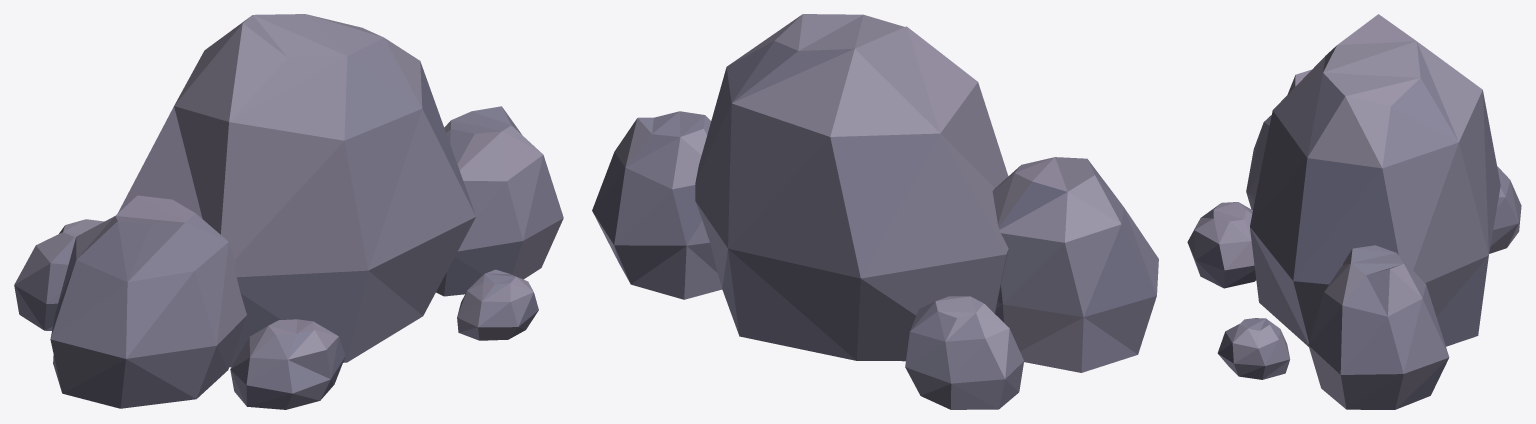
The model's file is BeachRocks.glb.
3 renders of one model, left to right at view 1: azimuth 30°, elevation 25°; view 2: azimuth 150°, elevation 25°; view 3: azimuth 270°, elevation 25°, orthographic. The views are drawn at different scales.
Visible parts, largest first — view 1: BeachRocks_Stone, BeachRocks_StoneWarm, BeachRocks_StoneLight, BeachRocks_StoneShade; view 2: BeachRocks_Stone, BeachRocks_StoneLight, BeachRocks_StoneWarm, BeachRocks_StoneShade; view 3: BeachRocks_Stone, BeachRocks_StoneLight, BeachRocks_StoneShade, BeachRocks_StoneWarm.
Boxes of the visible parts, x1,y1,x2,y2 form: BeachRocks_Stone: [14, 38, 563, 409]; BeachRocks_StoneWarm: [50, 56, 563, 393]; BeachRocks_StoneLight: [14, 14, 543, 359]; BeachRocks_StoneShade: [44, 61, 538, 406]; BeachRocks_Stone: [592, 41, 1158, 409]; BeachRocks_StoneLight: [614, 14, 1120, 378]; BeachRocks_StoneWarm: [593, 82, 1094, 409]; BeachRocks_StoneShade: [614, 181, 1156, 335]; BeachRocks_Stone: [1187, 41, 1521, 409]; BeachRocks_StoneLight: [1194, 14, 1482, 348]; BeachRocks_StoneShade: [1195, 158, 1488, 409]; BeachRocks_StoneWarm: [1194, 56, 1521, 409].
Bounding box in the file's own units: 4.73 × 2.58 × 2.87.
1 material, 1 textured.
